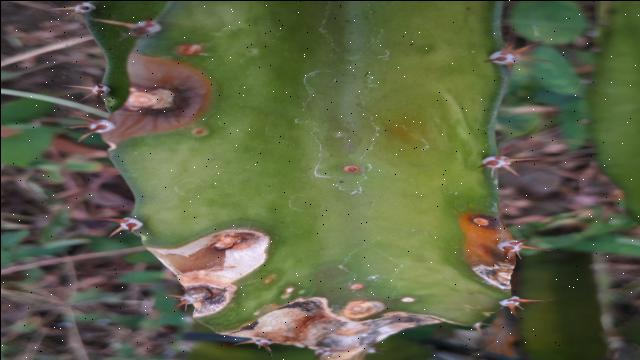stemcanker: (335, 297, 388, 323), (167, 39, 209, 60), (327, 162, 370, 177), (187, 121, 213, 144), (396, 288, 422, 309), (336, 281, 374, 293), (258, 272, 281, 290)
